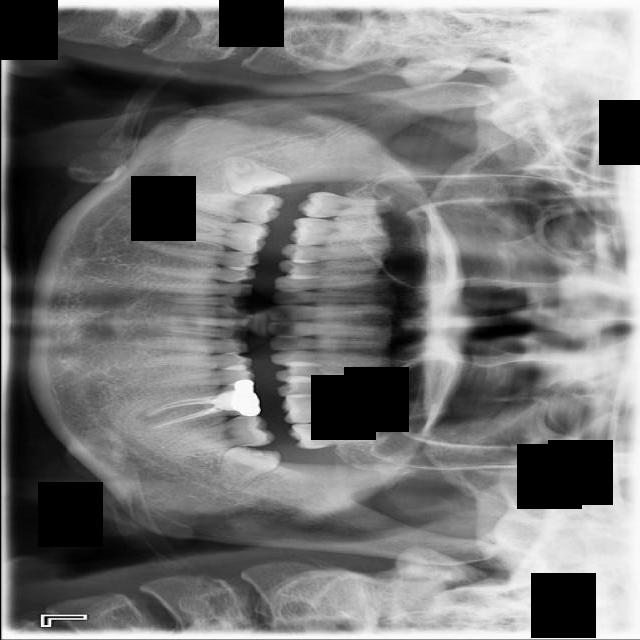52: (223, 376, 265, 423)
73: (138, 386, 235, 435), (56, 602, 62, 606)
BioHorizons Implant: (286, 421, 406, 449)
Biomet 3i Implant: (207, 441, 282, 498)
Blue Sky Bio Implant: (175, 412, 275, 454)
Caries: (295, 188, 402, 219)
Implant: (179, 187, 284, 226)
Keystone Dental Implant: (221, 157, 291, 195)
